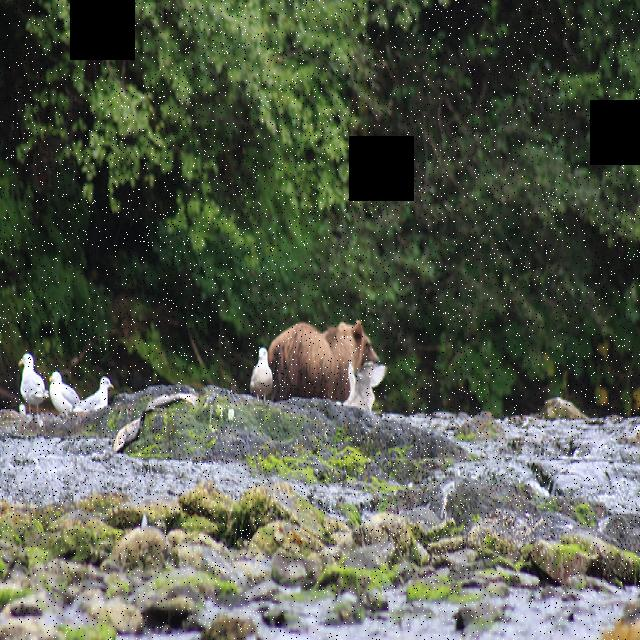Bear: (254, 304, 384, 396)
